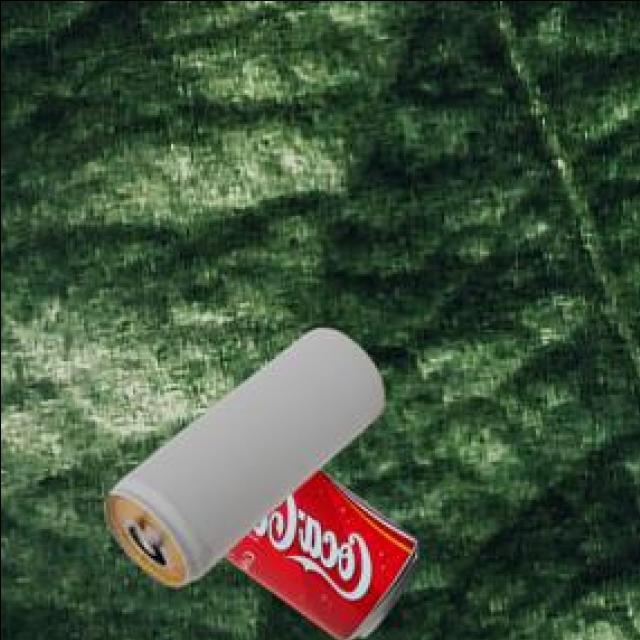logam: (100, 330, 379, 590), (220, 473, 415, 640)
